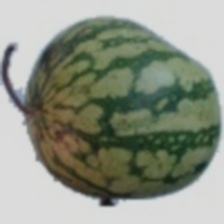watermelon: (58, 61, 205, 204)
